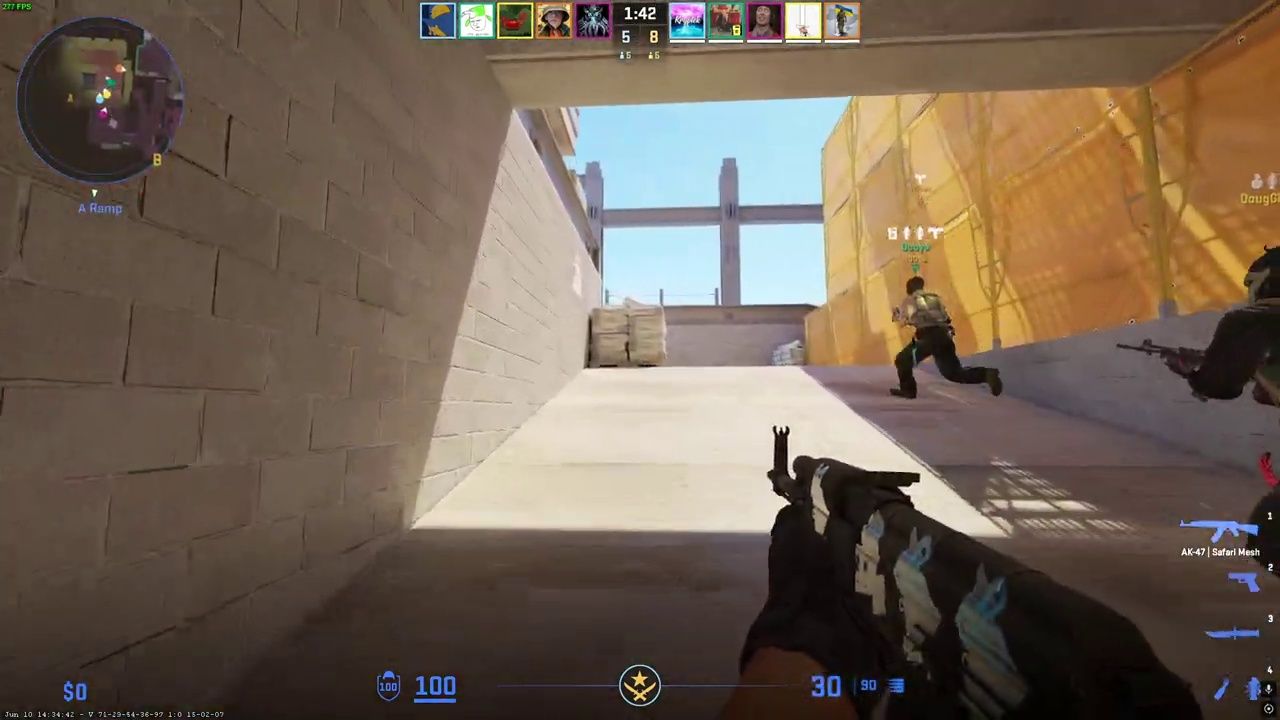Terrorist: (1212, 244, 1280, 580), (888, 276, 961, 400)
